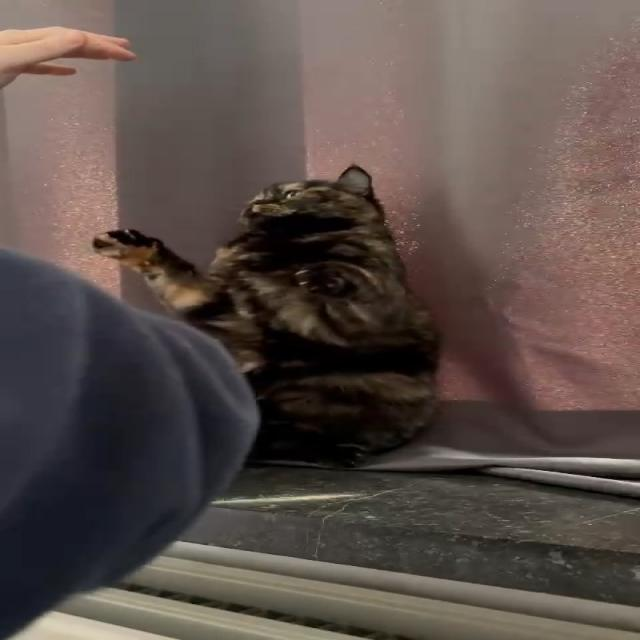authorized: (90, 162, 442, 469)
